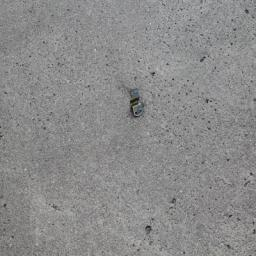FOD: (126, 86, 150, 125)
